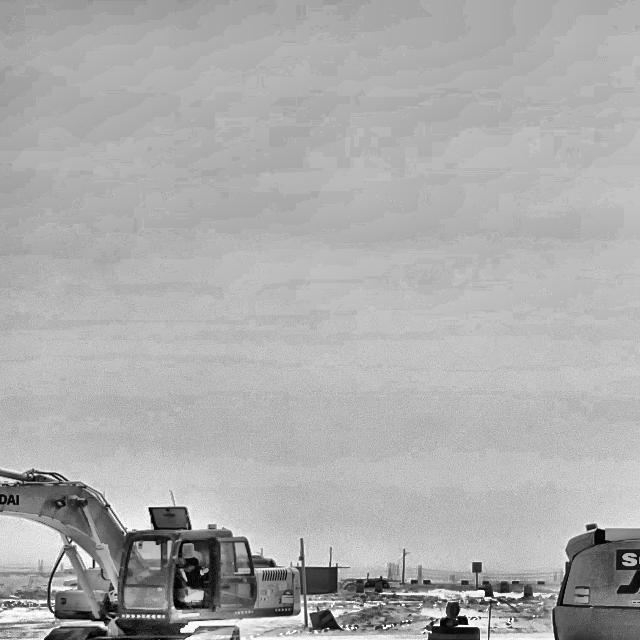excavator: (0, 431, 302, 640)
